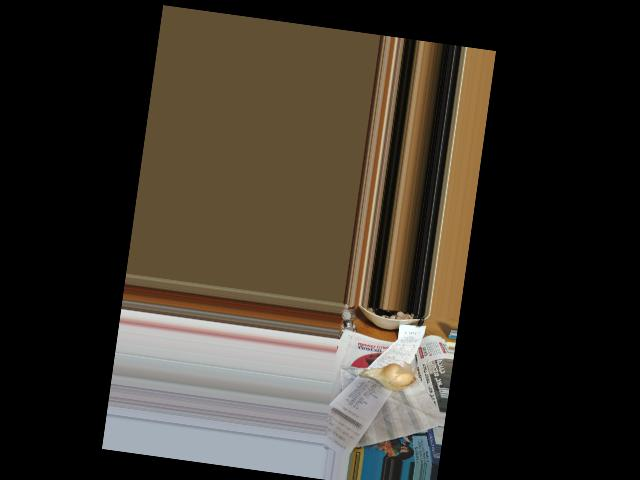onion: (364, 358, 418, 395)
